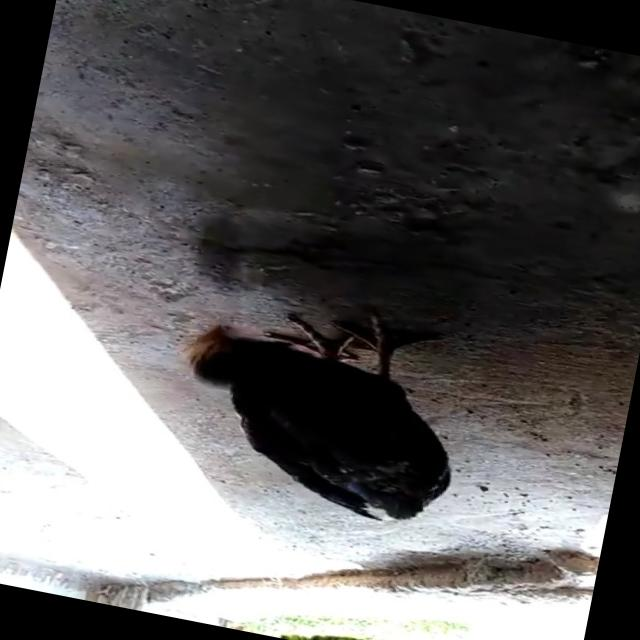newcastle: (160, 285, 490, 534)
